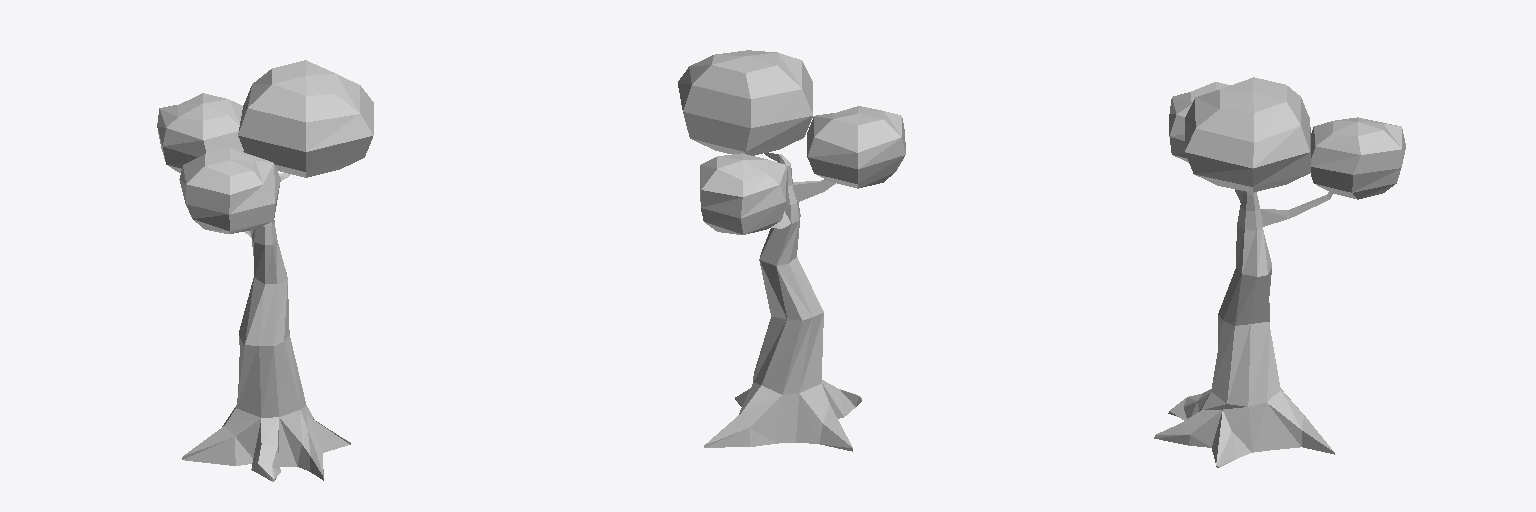
File: tree2.obj
3 renders of one model, left to right at view 1: azimuth 30°, elevation 25°; view 2: azimuth 150°, elevation 25°; view 3: azimuth 270°, elevation 25°, orthographic.
Parts seen in each view (by area): view 1: pSphere4, pCylinder4; view 2: pSphere4, pCylinder4; view 3: pSphere4, pCylinder4.
Part boxes in pixels (x1,y1,x2,y2): pSphere4: (157,60,373,233); pCylinder4: (182,173,350,481); pSphere4: (678,50,905,234); pCylinder4: (704,152,861,451); pSphere4: (1169,77,1405,199); pCylinder4: (1154,189,1334,467).
Size of the model in its own units: 2.01 by 3.34 by 2.11.